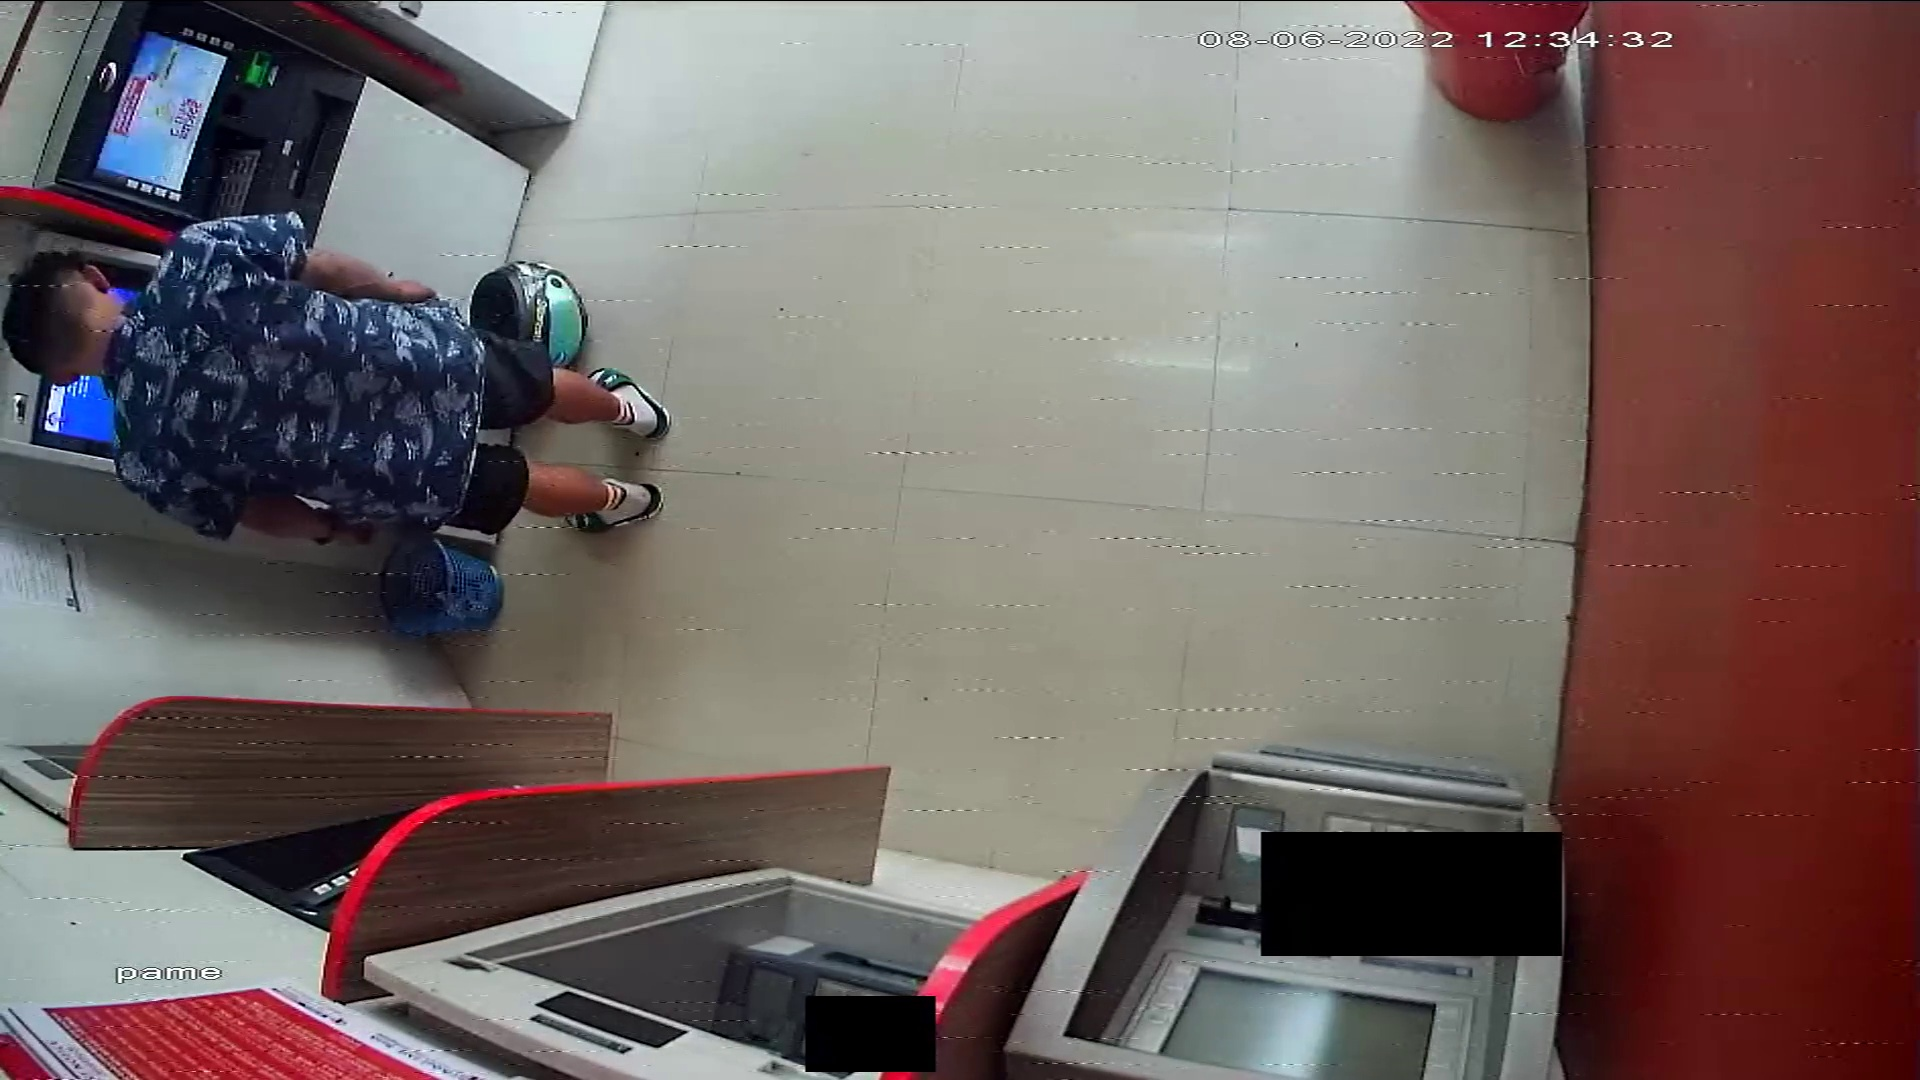helmet: (471, 264, 587, 372)
person: (3, 208, 671, 546)
